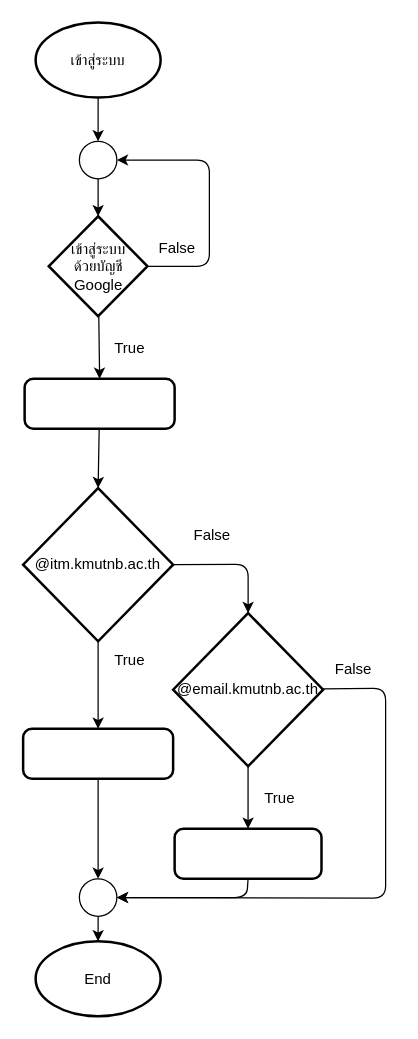
Some shapes in this 418 by 1039 pixel diagram are drawn without their labels. Each missing label, with the centre of its shape:
"กำนดสถานะ : นักศึกษา" goes at [247,853].
"กำหนดสถานะ : อาจารย์" goes at [97,753].
"บันทึกข้อมูลผู้ใช้งาน" goes at [99,403].
